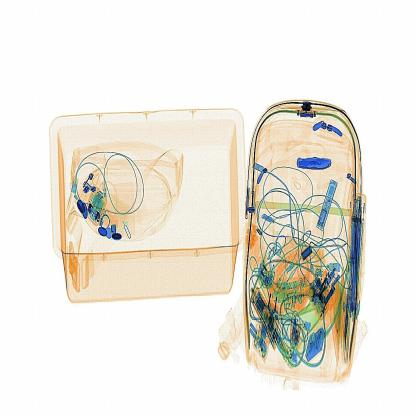knife: (296, 153, 333, 176)
